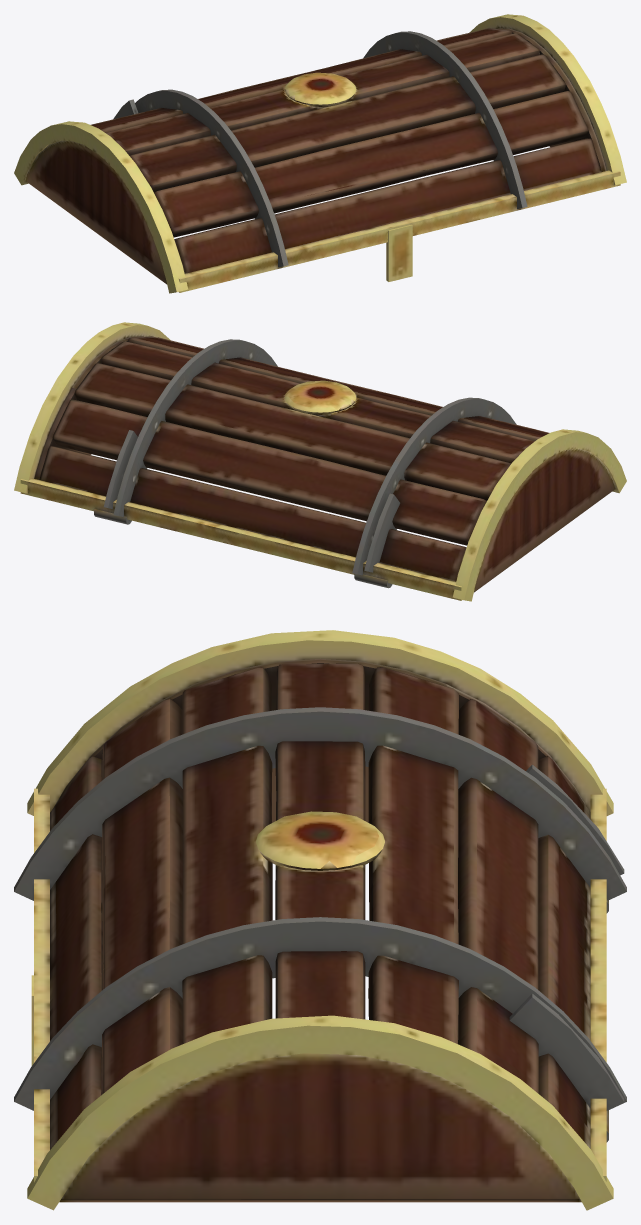
File: chest_ornate_lid.glb
3 views of the same model, one above another, from view 1: azimuth 30°, elevation 25°; view 2: azimuth 150°, elevation 25°; view 3: azimuth 270°, elevation 25° (orthographic). The views are drawn at different scales.
Visible parts, largest first — view 1: chest_ornate_lid; view 2: chest_ornate_lid; view 3: chest_ornate_lid.
Part boxes in pixels (<box>): chest_ornate_lid: <box>14,14,626,293</box>; chest_ornate_lid: <box>14,322,626,601</box>; chest_ornate_lid: <box>14,630,626,1210</box>.
Size of the model in its own units: 1.24 by 0.3864 by 0.8146.
1 material, 1 textured.
